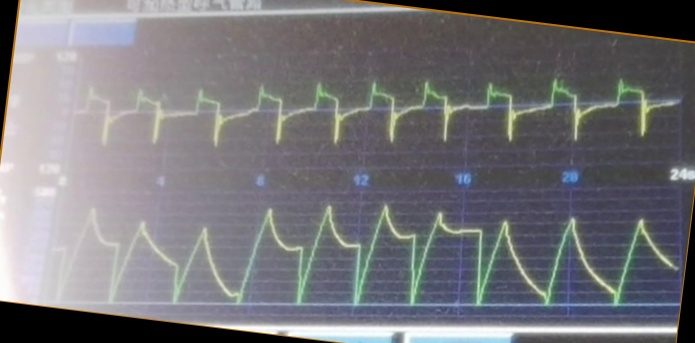Flow: (75, 62, 677, 166)
Leakage Volume: (57, 199, 674, 315)
